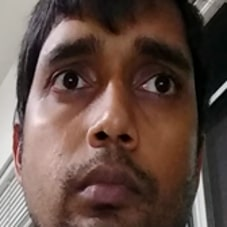awake: (41, 29, 196, 217)
